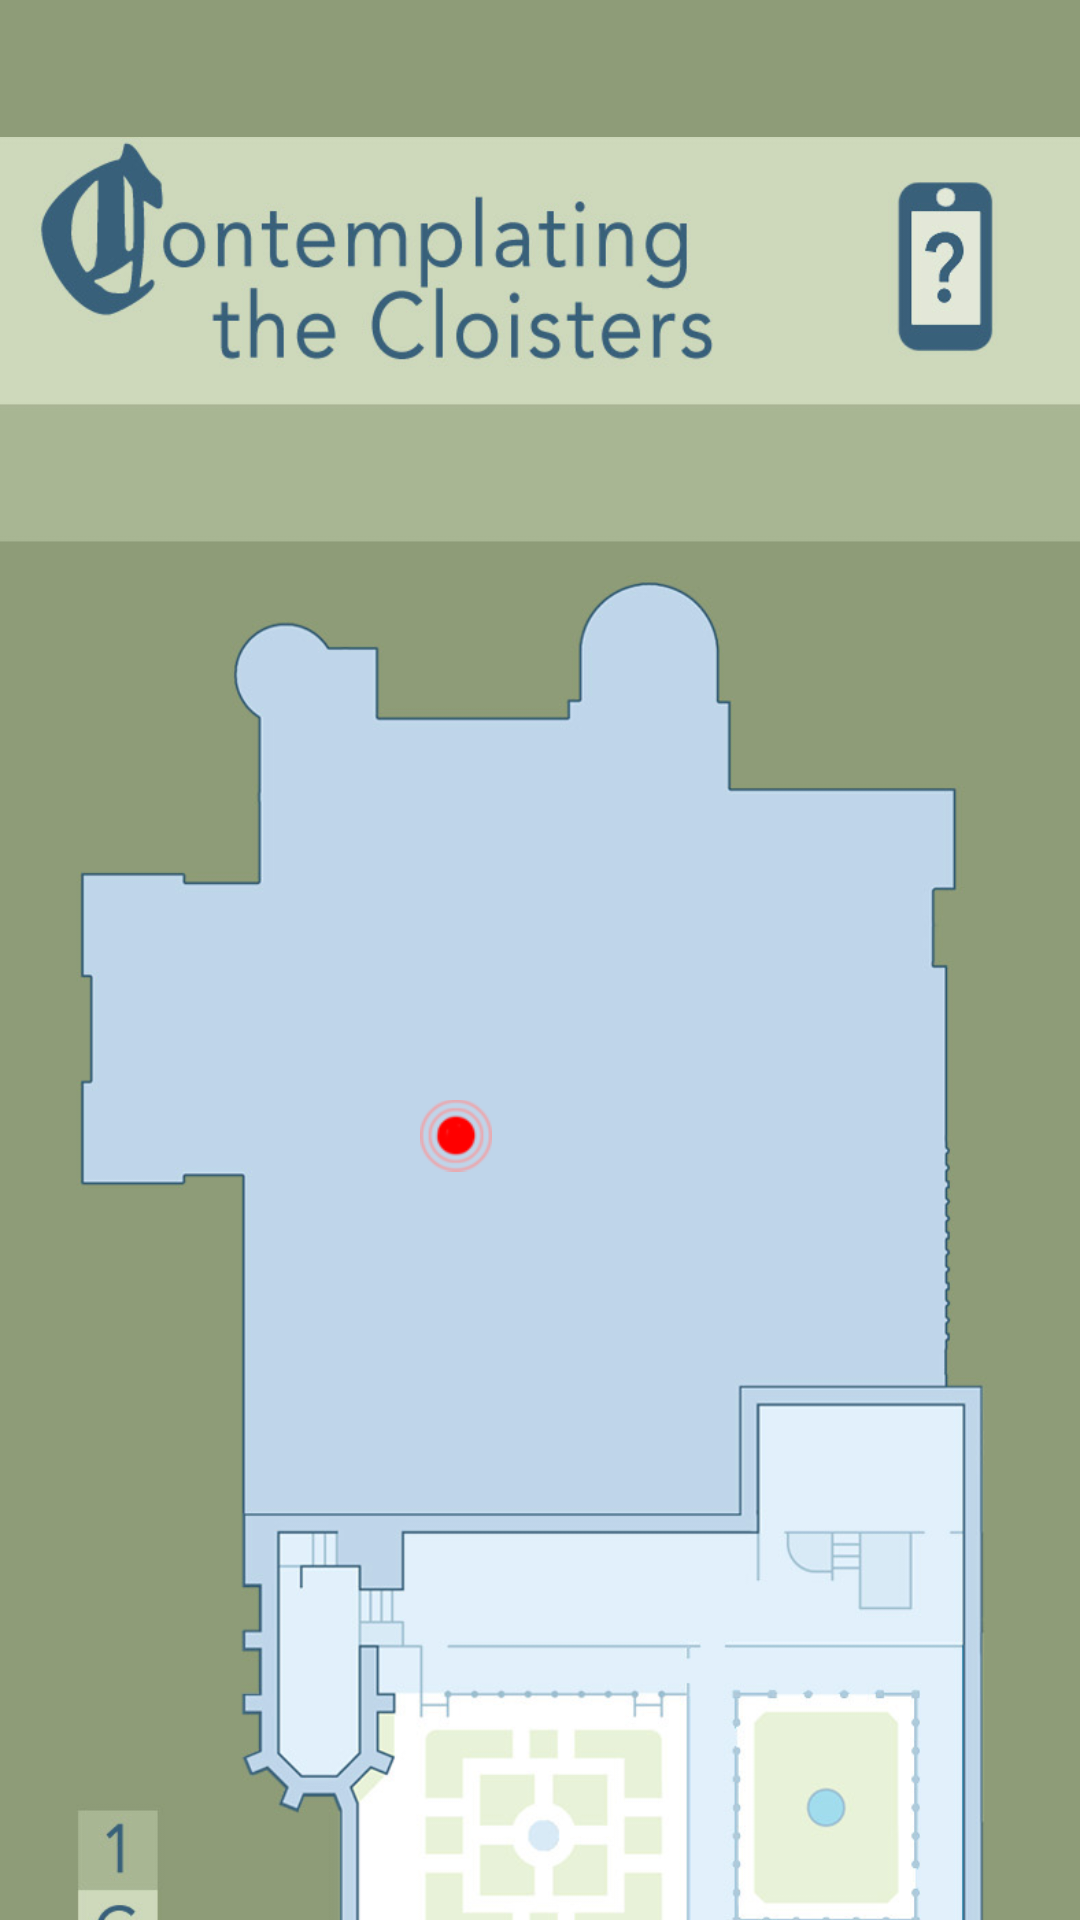

Icons on this 1080×1920 Android screen, each with its box as (x1, y1, x2, y2):
active: (420, 1100, 492, 1172)
